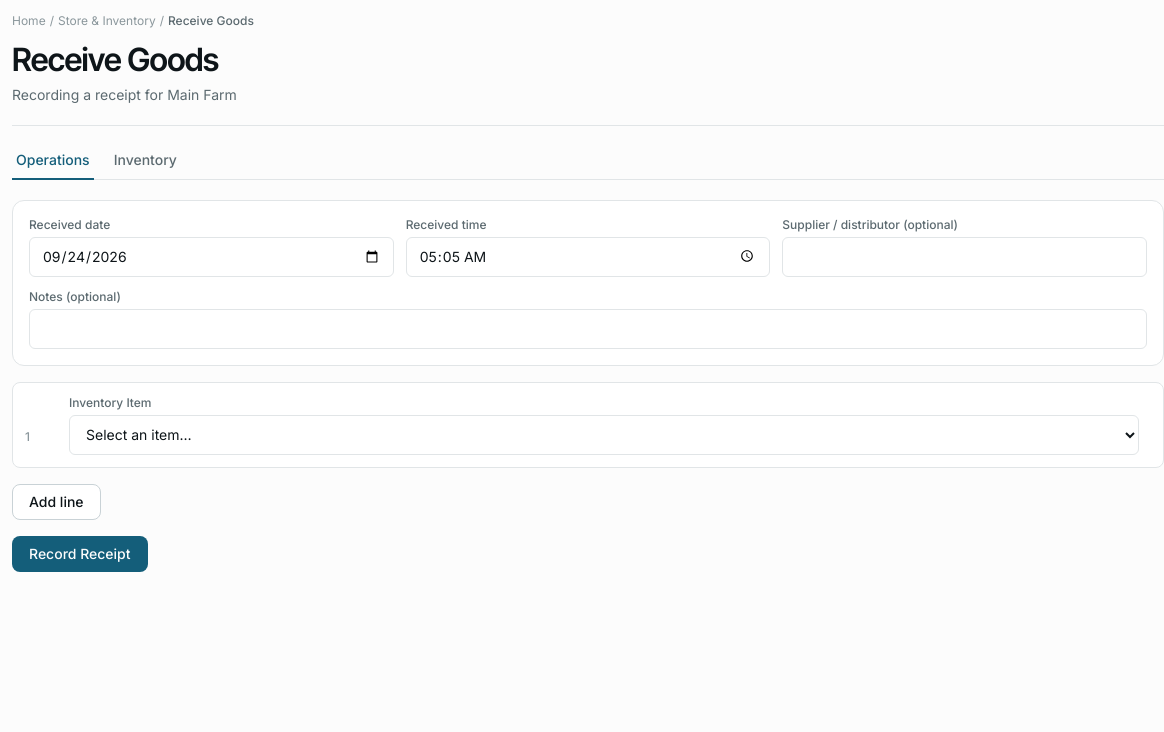
ReceiveGoodsPage › supports the direct-quantity entry path and submits successfully
Select "Hairnets" in the dropdown labelled "Inventory Item": (604, 435) [69,415,1139,455]
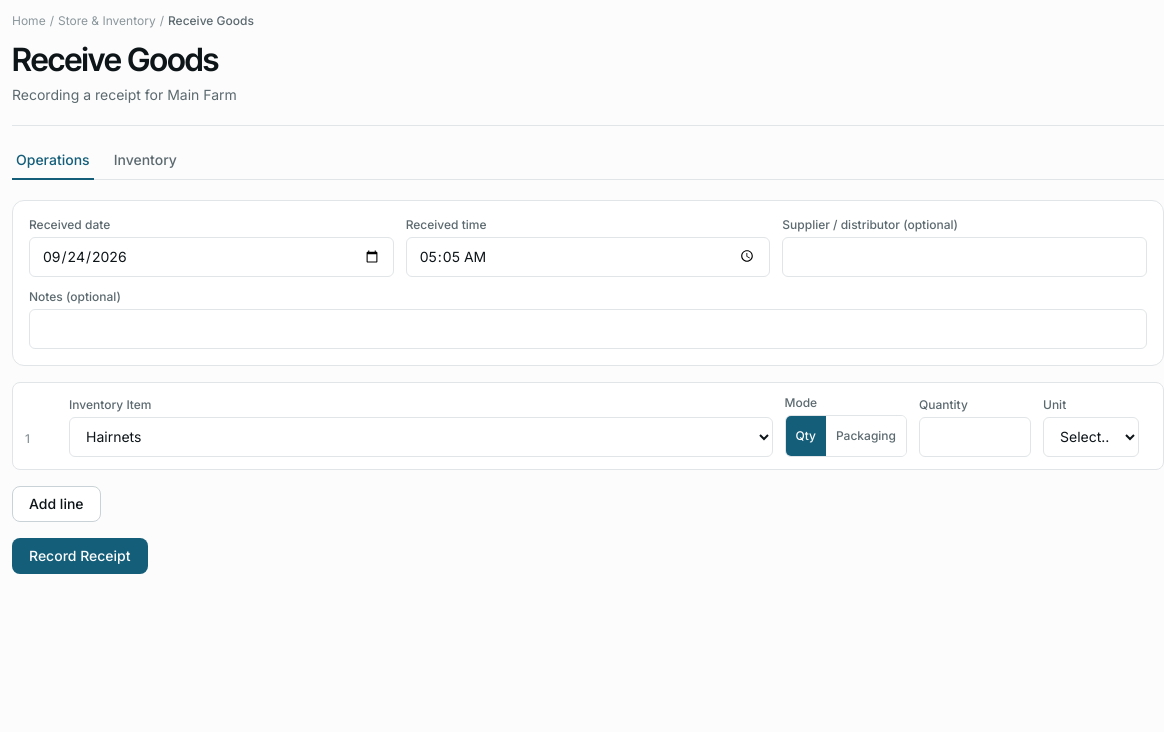
Expected: the number field labelled "Quantity" is shown
In the number field labelled "Quantity": (975, 437) [919,417,1031,457], type "100"
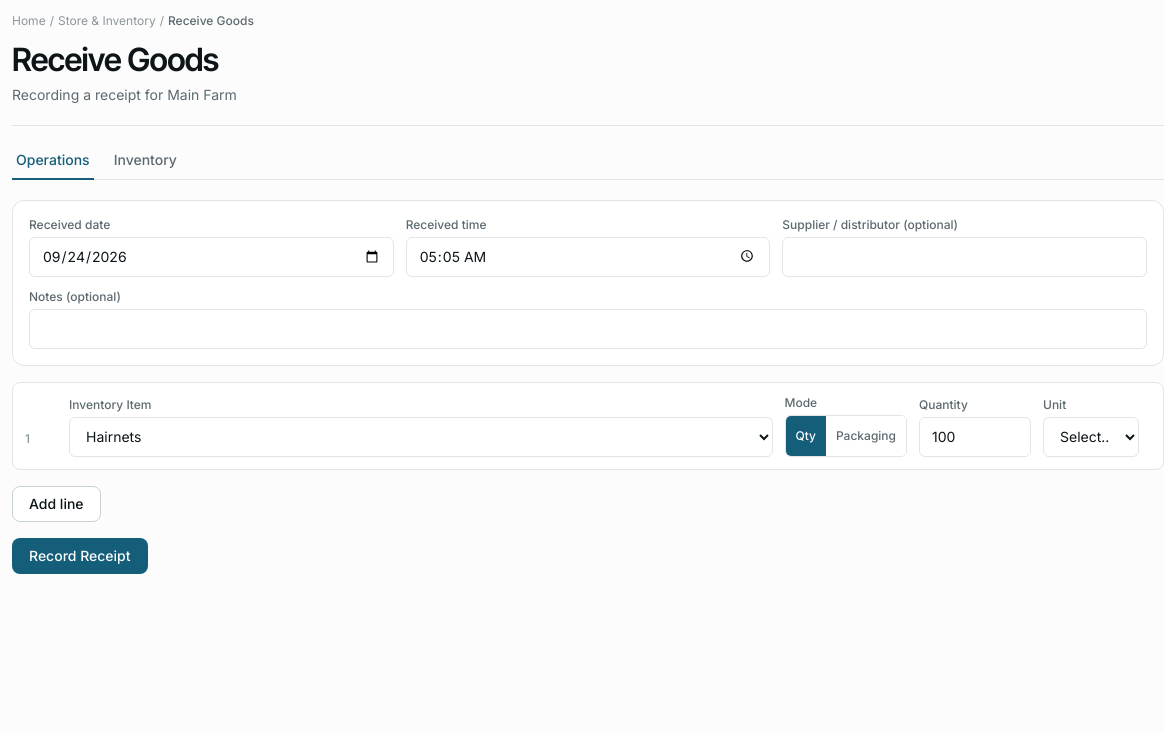
Select "EA" in the dropdown labelled "Unit": (1091, 437) [1043,417,1139,457]
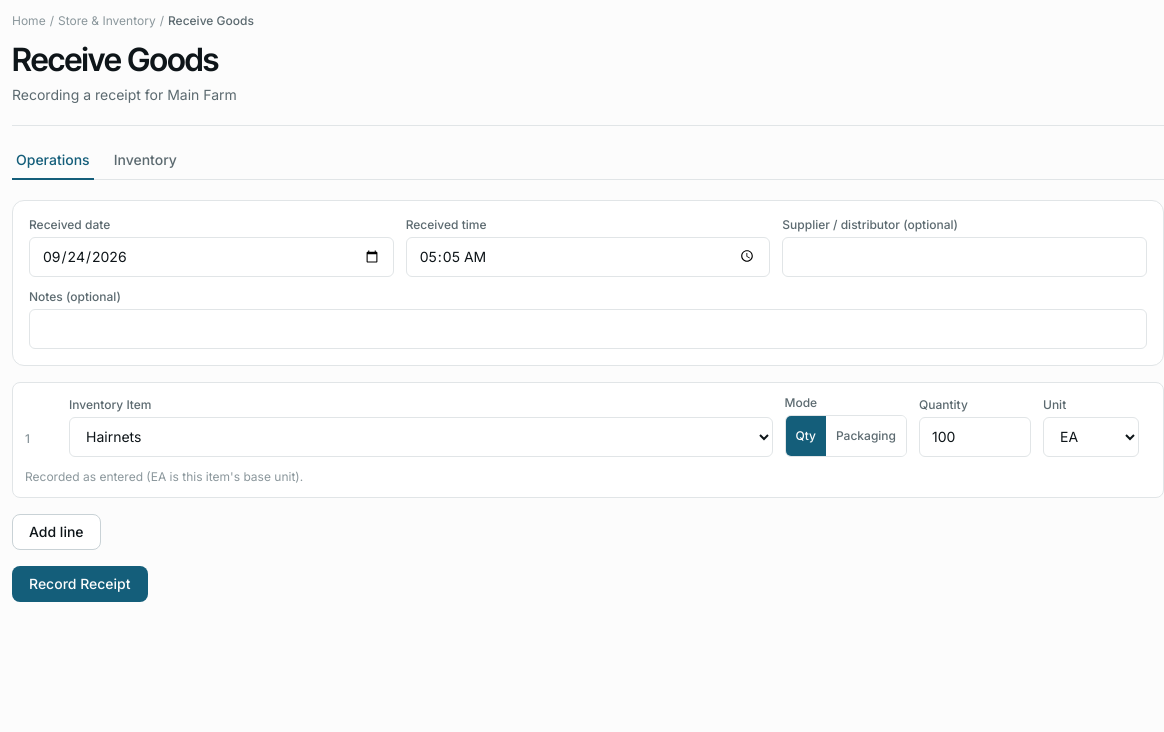
Click the button "Record Receipt": (80, 584) [12,566,148,602]
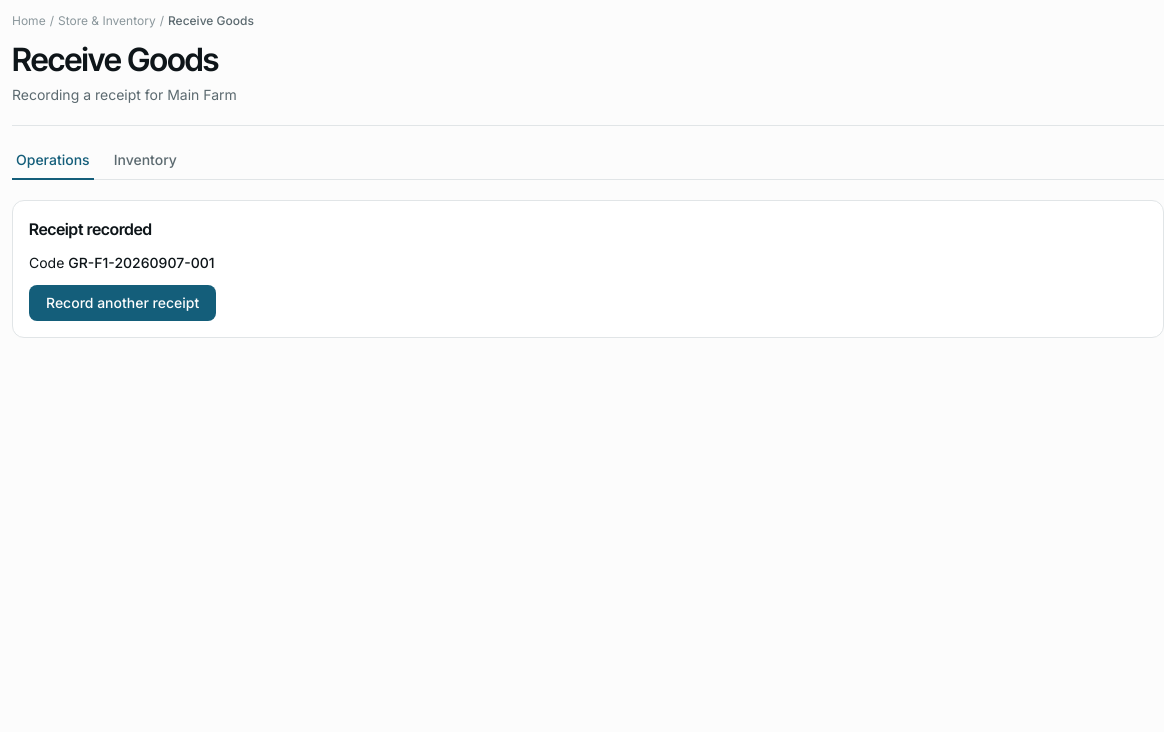
Expected: the heading "Receipt recorded" is shown, [29,219,152,239]
